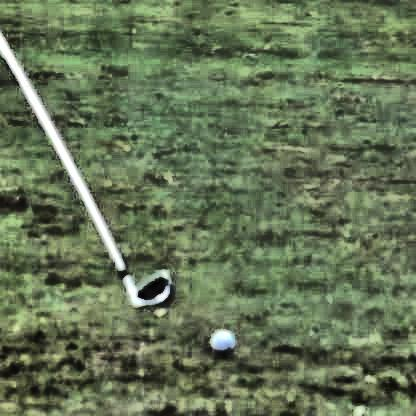golfball: (206, 326, 233, 354)
